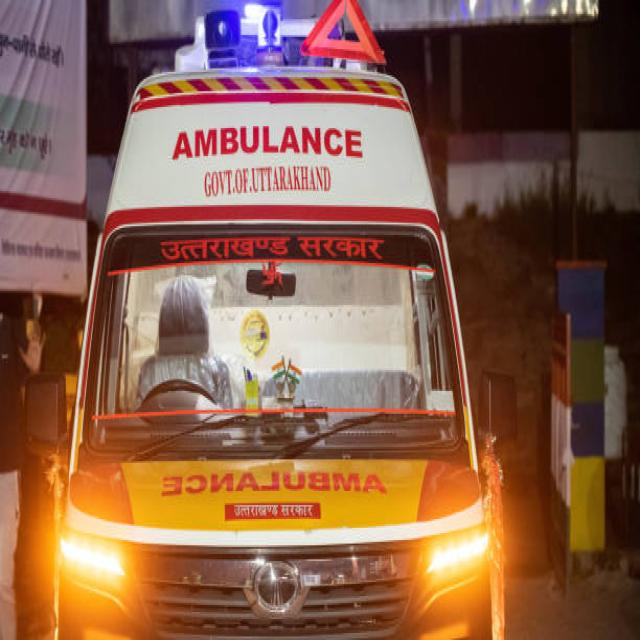Ambulance: (57, 8, 495, 640)
